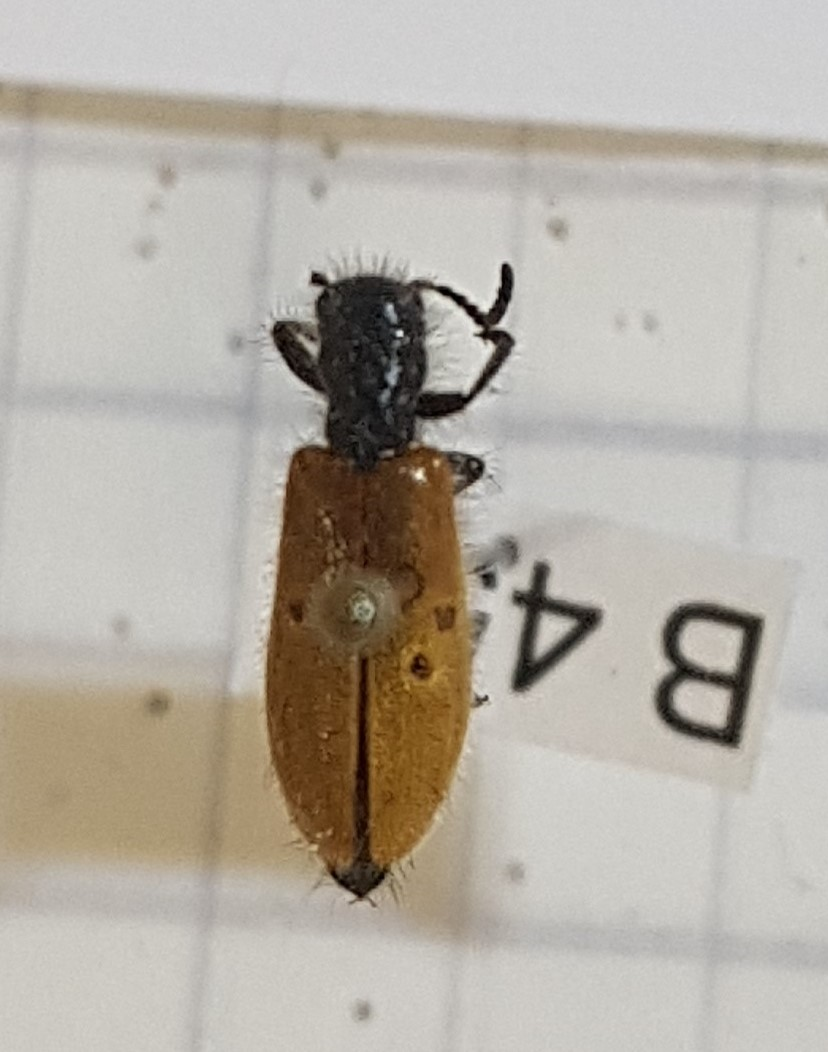tillus_pallidipennis: (250, 244, 520, 907)
